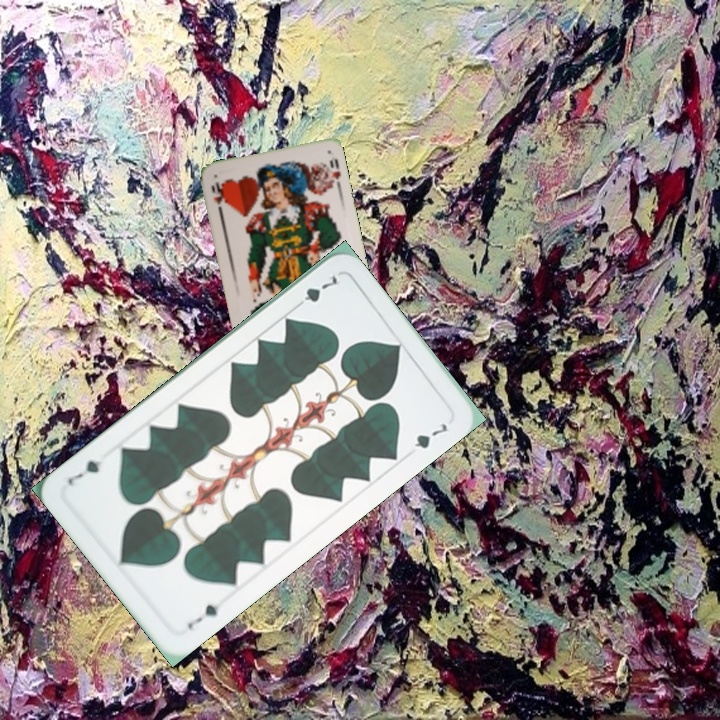G7: (289, 271, 343, 312), (183, 600, 221, 632)
HO: (207, 178, 226, 216)
